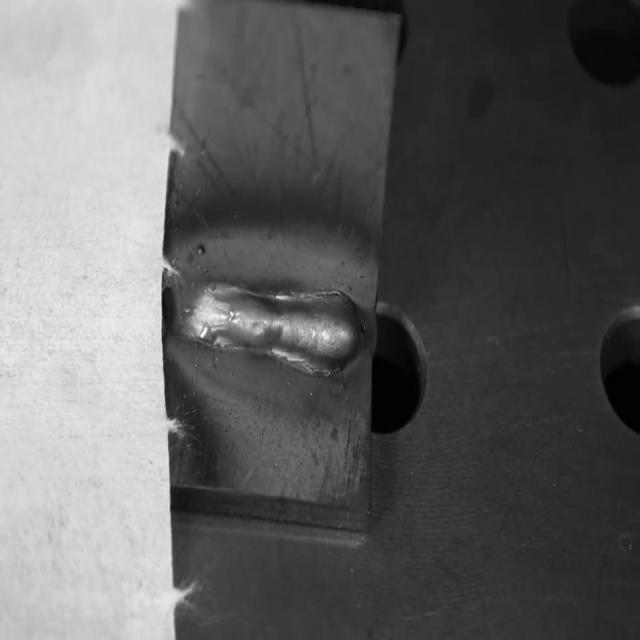Bad Weld: (169, 271, 367, 377)
